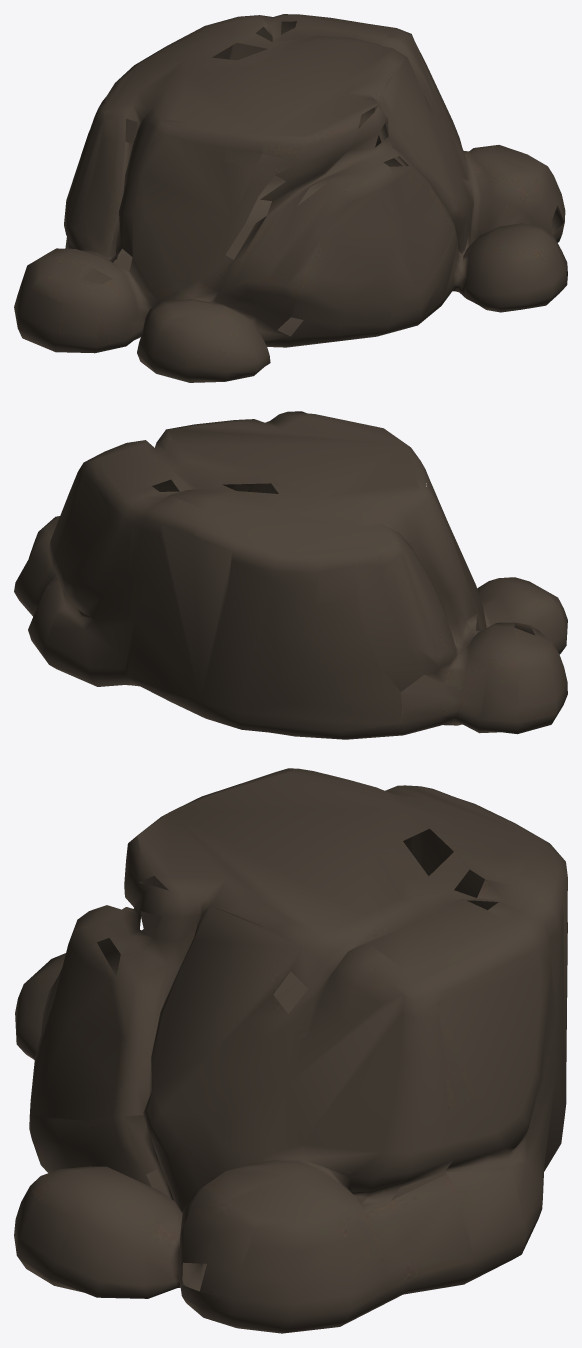
Rendered from pila_de_rocas_chica.glb.
3 renders of one model, top to bottom at view 1: azimuth 30°, elevation 25°; view 2: azimuth 150°, elevation 25°; view 3: azimuth 270°, elevation 25°, orthographic. The views are drawn at different scales.
Visible parts, largest first — view 1: pila_de_rocas_chica; view 2: pila_de_rocas_chica; view 3: pila_de_rocas_chica.
Boxes of the visible parts, x1=… form: pila_de_rocas_chica: x1=14, y1=14, x2=567, y2=382; pila_de_rocas_chica: x1=14, y1=411, x2=567, y2=739; pila_de_rocas_chica: x1=14, y1=768, x2=567, y2=1333.
Size of what is drawn, in the model's own units: 0.6 by 0.2188 by 0.3661.
1 material, 1 textured.
